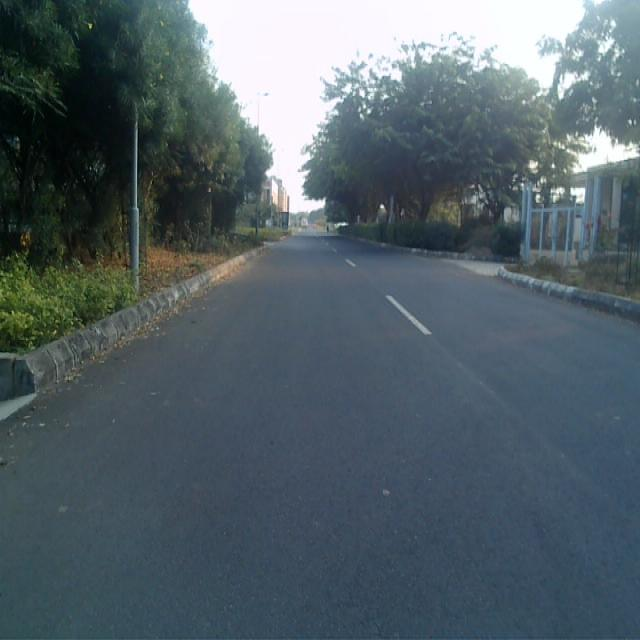lane: (0, 232, 640, 640)
